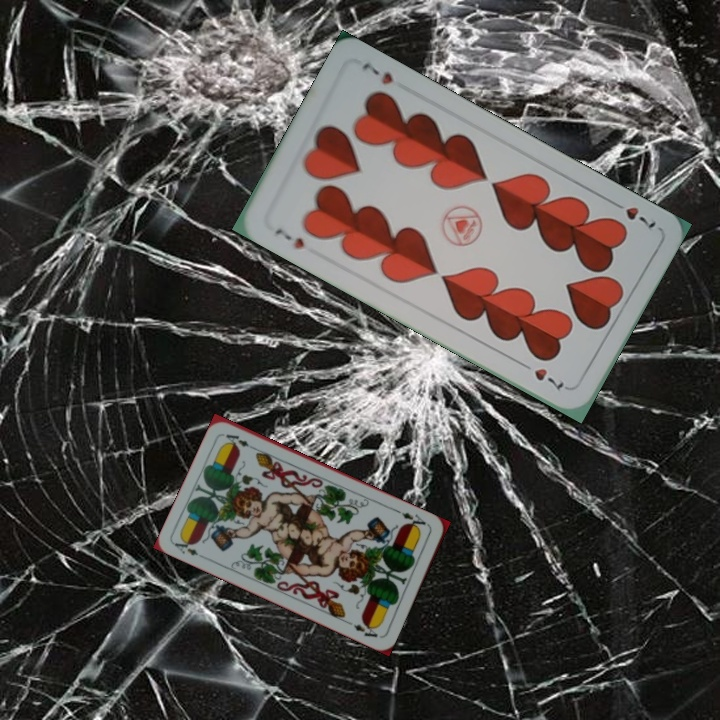EA: (393, 506, 432, 533), (170, 535, 209, 562)
H7: (607, 196, 659, 233), (271, 225, 307, 252)
